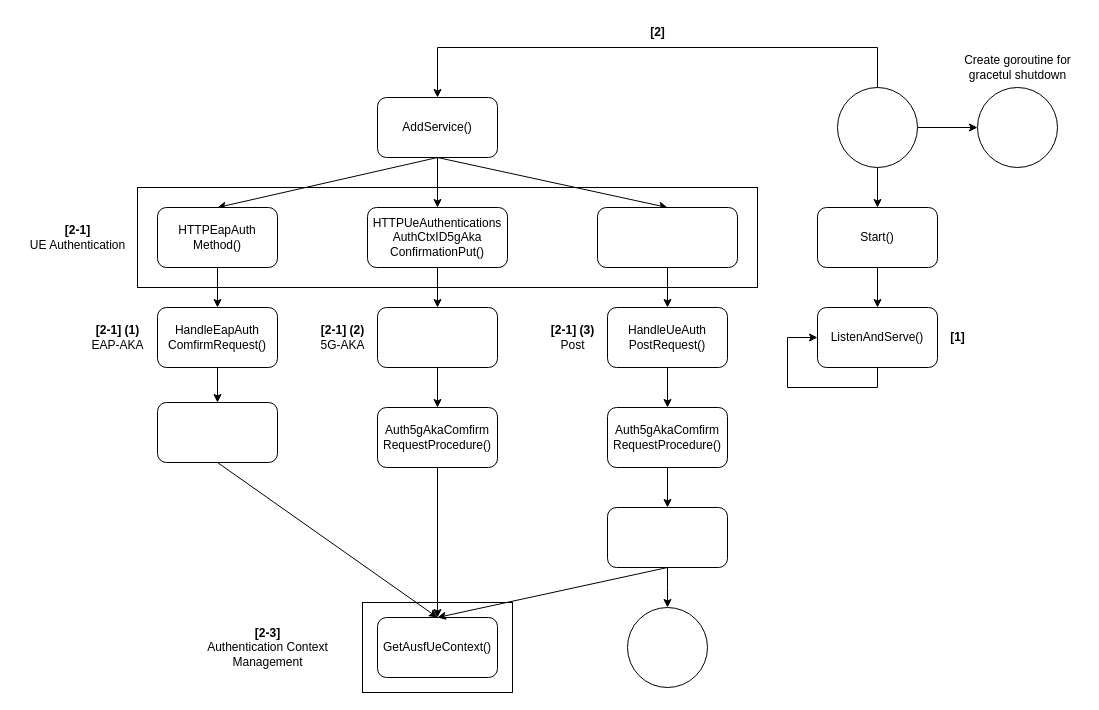
This 1099x710 diagram has some shape labels left out. The centre of each missing label's shape, as x and y in pixels:
EapAuthComfirm RequestProcedure(): point 217,432
HandleAuth5gAka ComfirmRequest(): point 437,337
HTTPUeAuthentications Post(): point 667,237
main: point 877,127
UeAuthPost RequestProcedure(): point 667,537
